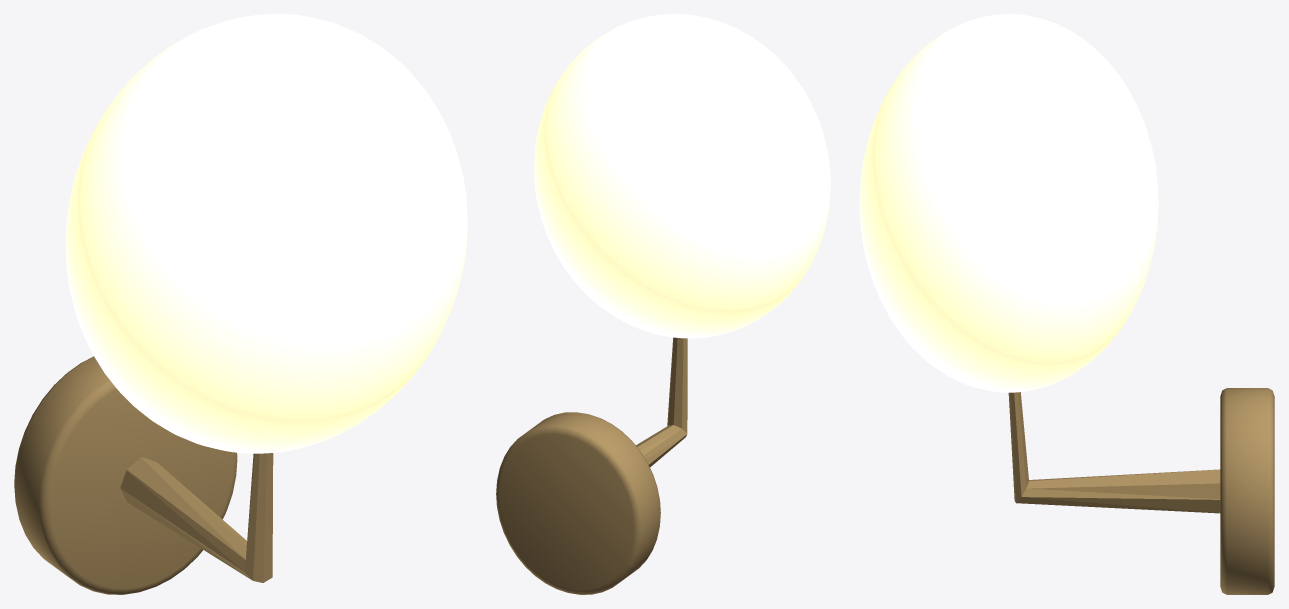
File: opal-wall-sconce.glb
3 renders of one model, left to right at view 1: azimuth 30°, elevation 25°; view 2: azimuth 150°, elevation 25°; view 3: azimuth 270°, elevation 25°, orthographic. The views are drawn at different scales.
Visible parts, largest first — view 1: catalog_surface_UVMap, catalog_surface_RealismUV; view 2: catalog_surface_UVMap, catalog_surface_RealismUV; view 3: catalog_surface_UVMap, catalog_surface_RealismUV.
Boxes of the visible parts, box(x1,y1,x2,y2) form: catalog_surface_UVMap: box(65, 14, 467, 453); catalog_surface_RealismUV: box(14, 356, 273, 594); catalog_surface_UVMap: box(534, 14, 830, 338); catalog_surface_RealismUV: box(496, 337, 687, 594); catalog_surface_UVMap: box(859, 14, 1158, 392); catalog_surface_RealismUV: box(1008, 388, 1274, 594).
Bounding box in the file's own units: 0.23 × 0.4 × 0.27.
